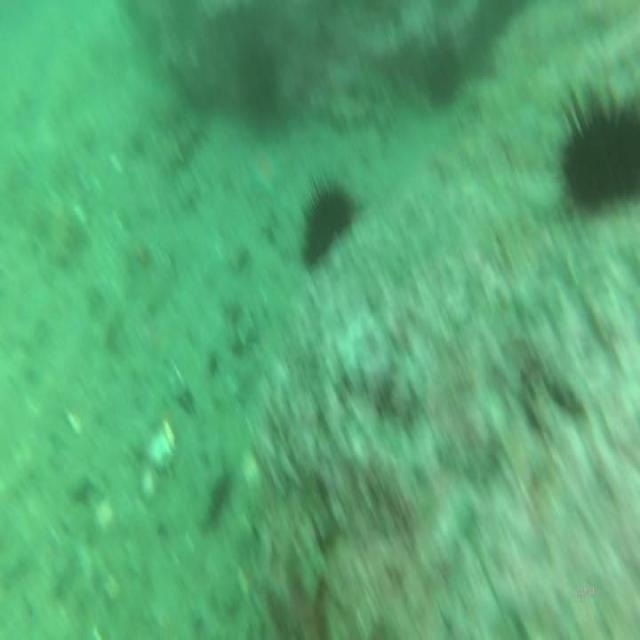echinus: (562, 109, 640, 210), (234, 41, 276, 115), (307, 190, 351, 251), (428, 41, 458, 100)
